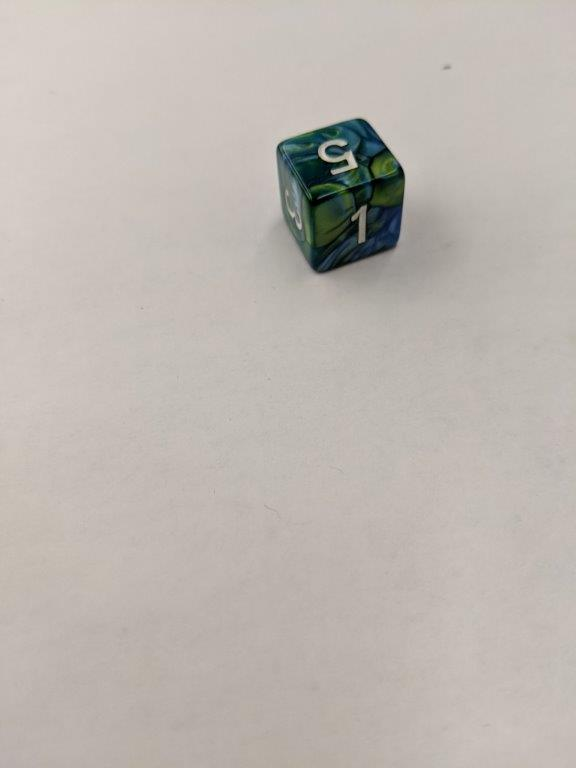d6-5: (274, 118, 410, 277)
